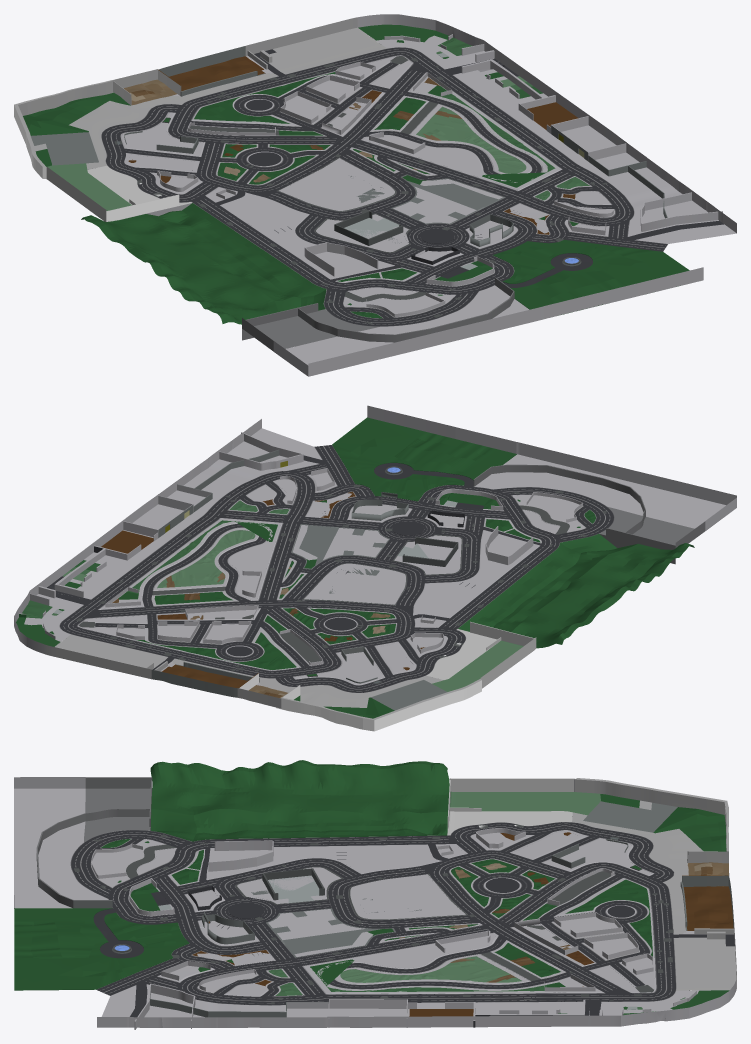
File: Jalan trotoar 4.fbx
The picture shows the model from 3 angles, top to bottom: view 1: azimuth 30°, elevation 25°; view 2: azimuth 150°, elevation 25°; view 3: azimuth 270°, elevation 25°; orthographic projection. The views are drawn at different scales.
Visible parts, largest first — view 1: Plane.020; view 2: Plane.020; view 3: Plane.020.
Part boxes in pixels (bbox=[...]): Plane.020: bbox=[14, 14, 736, 376]; Plane.020: bbox=[14, 405, 736, 731]; Plane.020: bbox=[14, 760, 736, 1029].
Size of the model in its own units: 30538 by 1801 by 37001.
